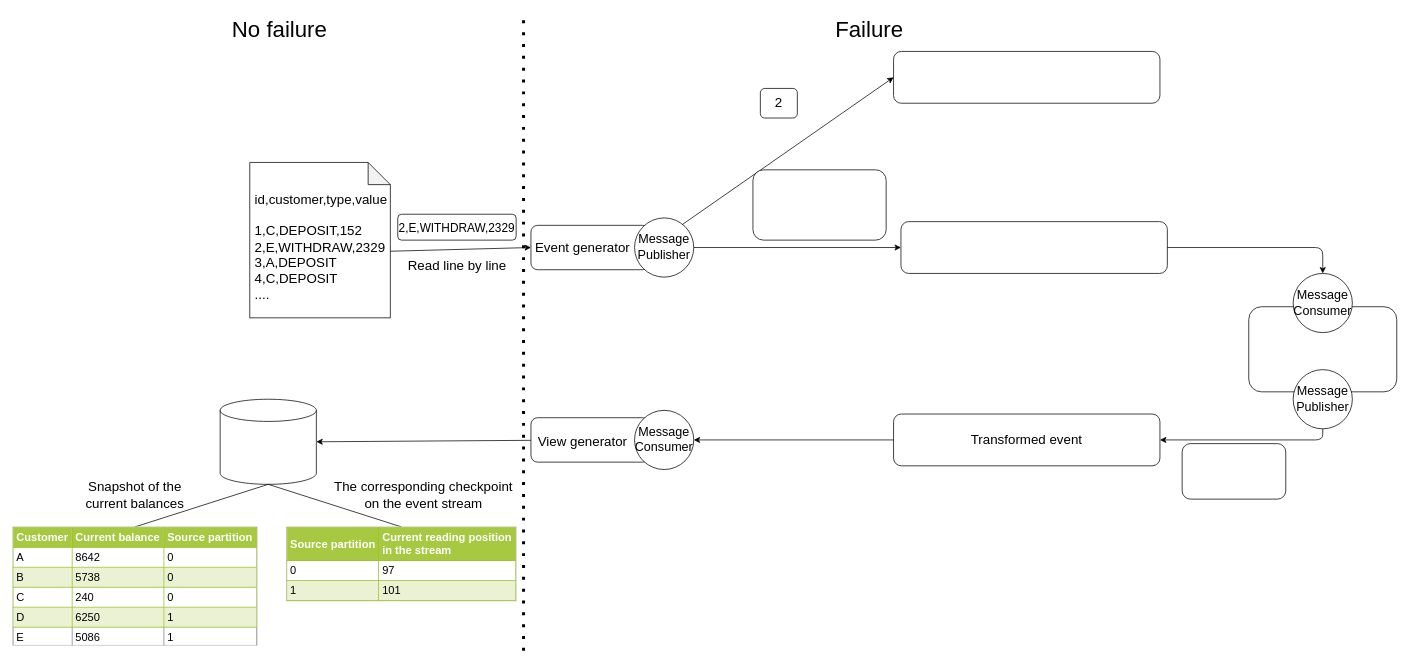
This 1410x665 diagram has some shape labels left out. The centre of each missing label's shape, as x and y in pixels:
"Raw event" belongs at (x=1033, y=247).
"Reading position" belongs at (x=1026, y=77).
"Relational database" belongs at (x=267, y=441).
"Stream processor" belongs at (x=1322, y=349).
"{ id: 2, customer:E, type: WITHDRAW, value: 2329 }" belongs at (x=819, y=204).
"{ id: 2, customer:E, value: - 2329 }" belongs at (x=1233, y=471).
